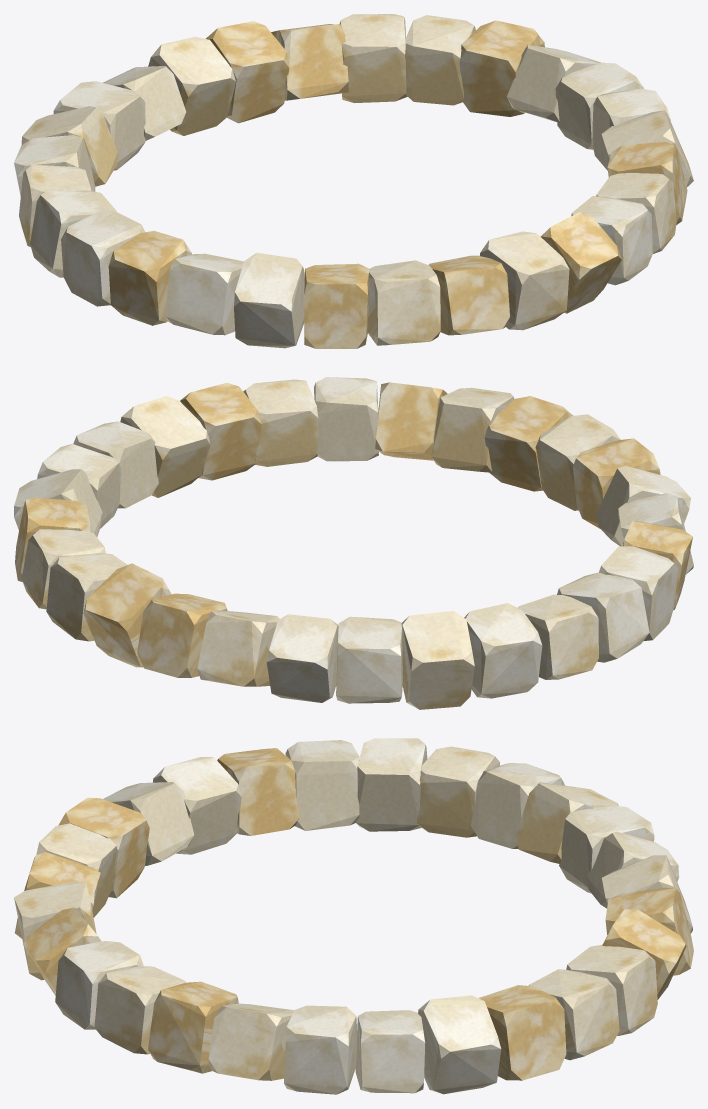
Rendered from standard.glb.
3 views of the same model, one above another, from view 1: azimuth 30°, elevation 25°; view 2: azimuth 150°, elevation 25°; view 3: azimuth 270°, elevation 25° (orthographic). The views are drawn at different scales.
Visible parts, largest first — view 1: facet_kostka_1.004, facet_kostka_3.004, facet_kostka_1.005, facet_kostka_0.001, facet_kostka_2.001, facet_kostka_2.004, facet_kostka_2, facet_kostka_3.003, facet_kostka_0.005, facet_kostka_0.004, facet_kostka_3.001, facet_kostka_3 (+16 smaller); view 2: facet_kostka_2.002, facet_kostka_3.002, facet_kostka_1.002, facet_kostka_0.002, facet_kostka_2.001, facet_kostka_1.006, facet_kostka_1.001, facet_kostka_0.006, facet_kostka_3.001, facet_kostka_3.005, facet_kostka_2.006, facet_kostka_0.003 (+16 smaller); view 3: facet_kostka_1, facet_kostka_2, facet_kostka_3.006, facet_kostka_1.003, facet_kostka_2.003, facet_kostka_0, facet_kostka_2.006, facet_kostka_1.006, facet_kostka_0.003, facet_kostka_3.003, facet_kostka_0.004, facet_kostka_0.006 (+16 smaller).
Boxes of the visible parts, <box> form: facet_kostka_1.004: <box>234,252,304,348</box>; facet_kostka_3.004: <box>368,260,440,345</box>; facet_kostka_1.005: <box>480,231,569,330</box>; facet_kostka_0.001: <box>339,14,407,102</box>; facet_kostka_2.001: <box>206,21,289,123</box>; facet_kostka_2.004: <box>304,263,369,348</box>; facet_kostka_2: <box>459,20,544,116</box>; facet_kostka_3.003: <box>108,230,191,325</box>; facet_kostka_0.005: <box>428,255,509,335</box>; facet_kostka_0.004: <box>165,253,243,335</box>; facet_kostka_3.001: <box>148,36,235,135</box>; facet_kostka_3: <box>405,15,475,105</box>; facet_kostka_2.002: <box>401,611,474,709</box>; facet_kostka_3.002: <box>464,603,542,698</box>; facet_kostka_1.002: <box>336,616,402,703</box>; facet_kostka_0.002: <box>266,614,338,702</box>; facet_kostka_2.001: <box>137,593,227,677</box>; facet_kostka_1.006: <box>180,383,261,480</box>; facet_kostka_1.001: <box>83,563,171,667</box>; facet_kostka_0.006: <box>243,379,318,466</box>; facet_kostka_3.001: <box>197,611,279,686</box>; facet_kostka_3.005: <box>314,377,378,461</box>; facet_kostka_2.006: <box>120,396,210,497</box>; facet_kostka_0.003: <box>518,594,598,679</box>; facet_kostka_1: <box>418,995,501,1094</box>; facet_kostka_2: <box>478,985,566,1080</box>; facet_kostka_3.006: <box>284,1005,357,1094</box>; facet_kostka_1.003: <box>356,738,427,831</box>; facet_kostka_2.003: <box>285,740,359,830</box>; facet_kostka_0: <box>355,1010,425,1093</box>; facet_kostka_2.006: <box>208,1003,294,1080</box>; facet_kostka_1.006: <box>148,981,238,1073</box>; facet_kostka_0.003: <box>416,746,499,837</box>; facet_kostka_3.003: <box>217,748,299,835</box>; facet_kostka_0.004: <box>153,757,241,854</box>; facet_kostka_0.006: <box>94,966,185,1054</box>.
Size of the model in its own units: 6.38 by 0.8718 by 6.1.
3 materials, 3 textured.
